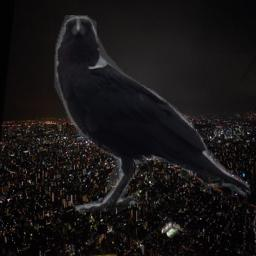Crow: (53, 15, 251, 212)
